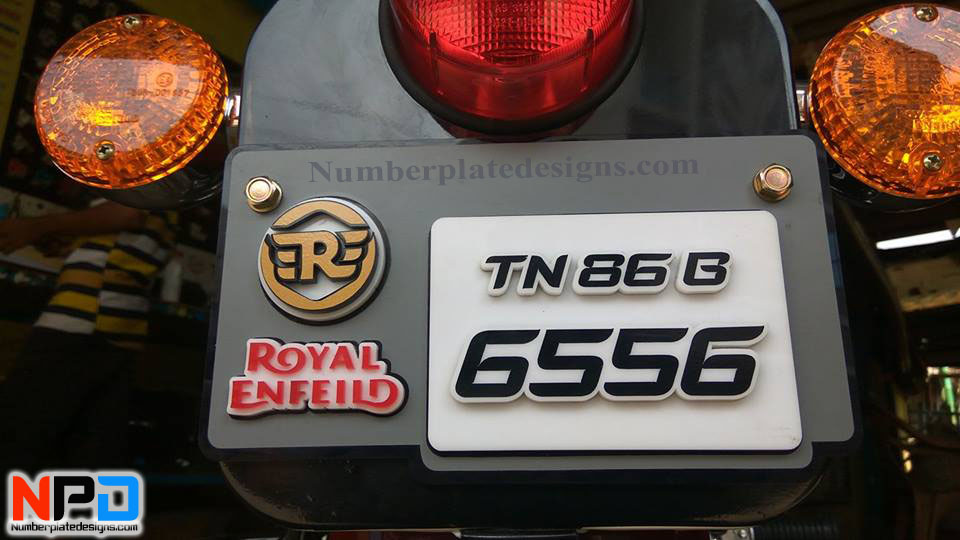number_plate: (425, 208, 805, 457)
